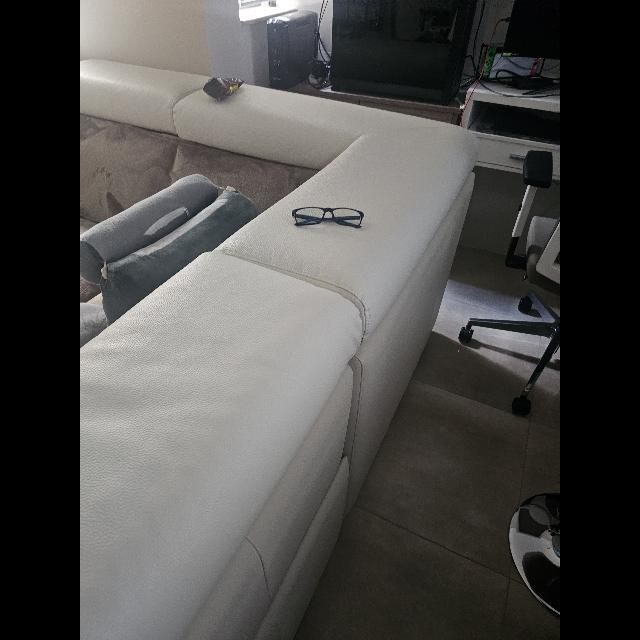glasses: (292, 208, 364, 228)
